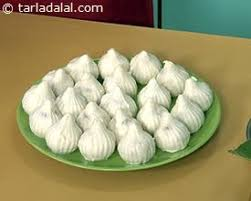modak: (75, 115, 123, 159), (147, 117, 197, 154), (121, 122, 157, 163), (22, 79, 63, 112), (50, 115, 83, 154), (26, 101, 65, 134), (174, 92, 207, 130), (141, 79, 178, 110), (100, 92, 143, 117), (59, 87, 96, 116), (97, 47, 130, 77)
